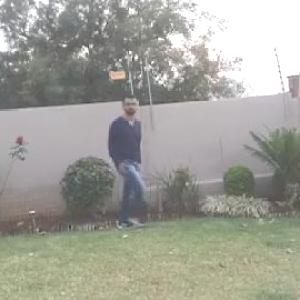follow: (96, 90, 148, 234)
